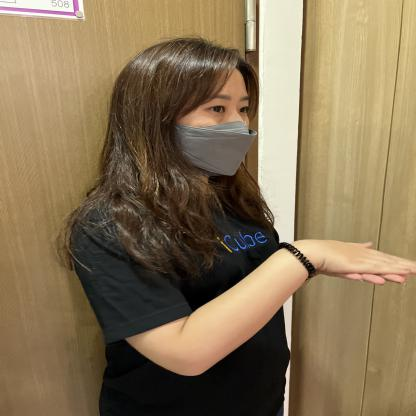Love: (186, 200, 416, 316)
